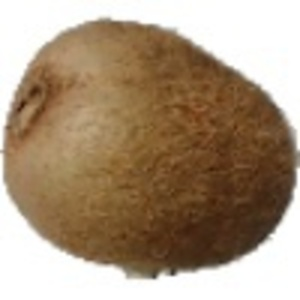kiwi: (1, 16, 300, 284)
